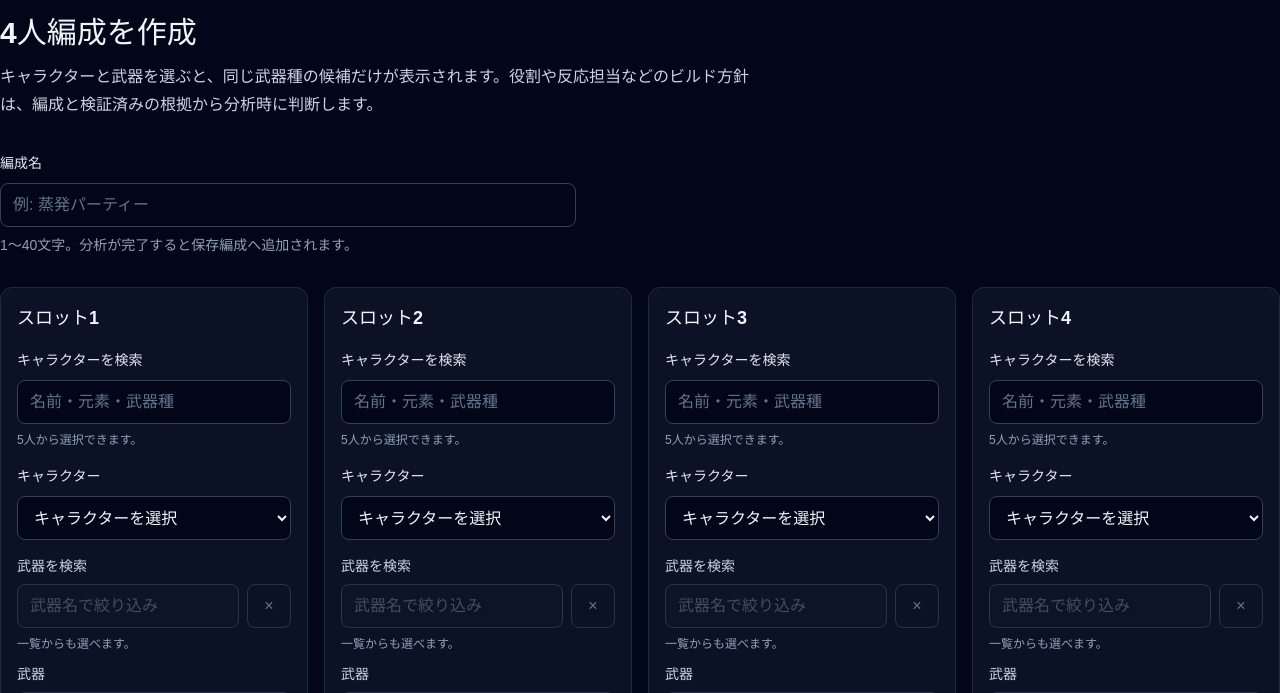
PartyBuilder › 武器は選択キャラクターと同じ武器種だけに絞られる
Select "片手剣キャラ（水・片手剣）" in the 1st dropdown labelled "キャラクター": {"x": 154, "y": 518} [17, 496, 291, 540]
(page scrolled)
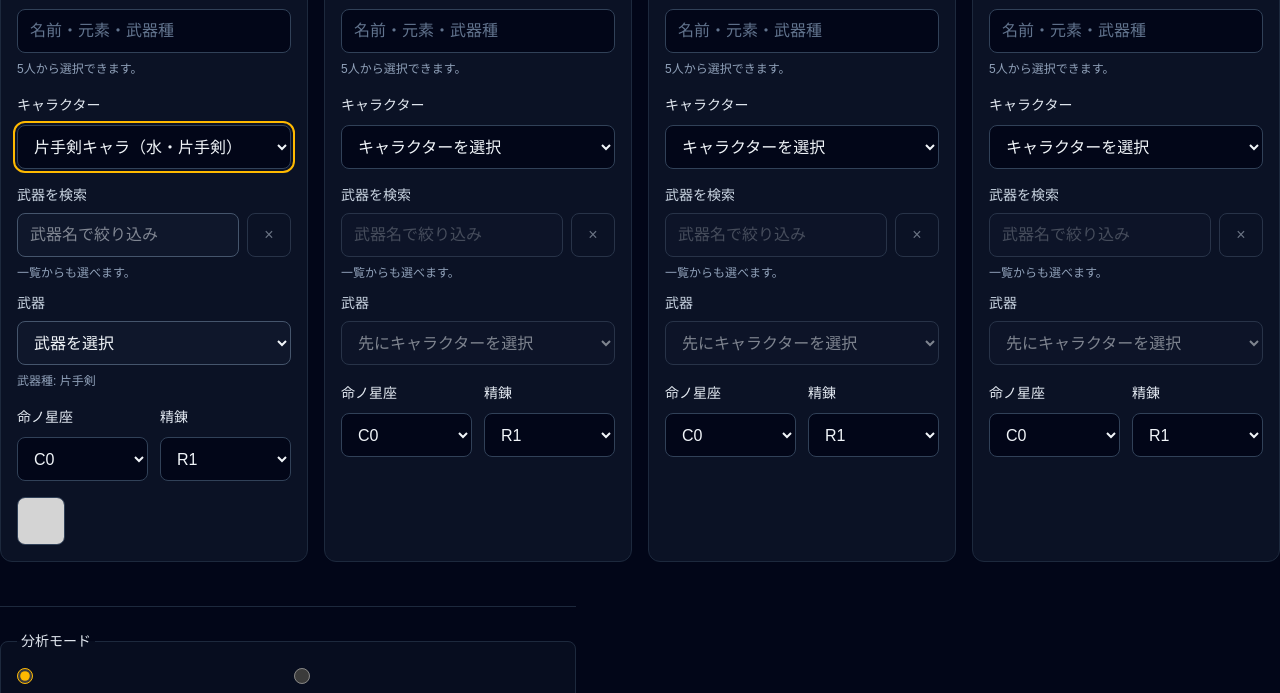
Check: the 1st dropdown labelled "武器" shows "武器を選択", box [17, 321, 291, 365]
